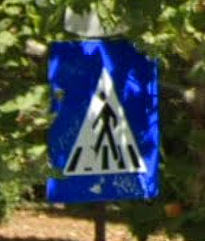trecere_pietoni: (40, 34, 168, 203)
